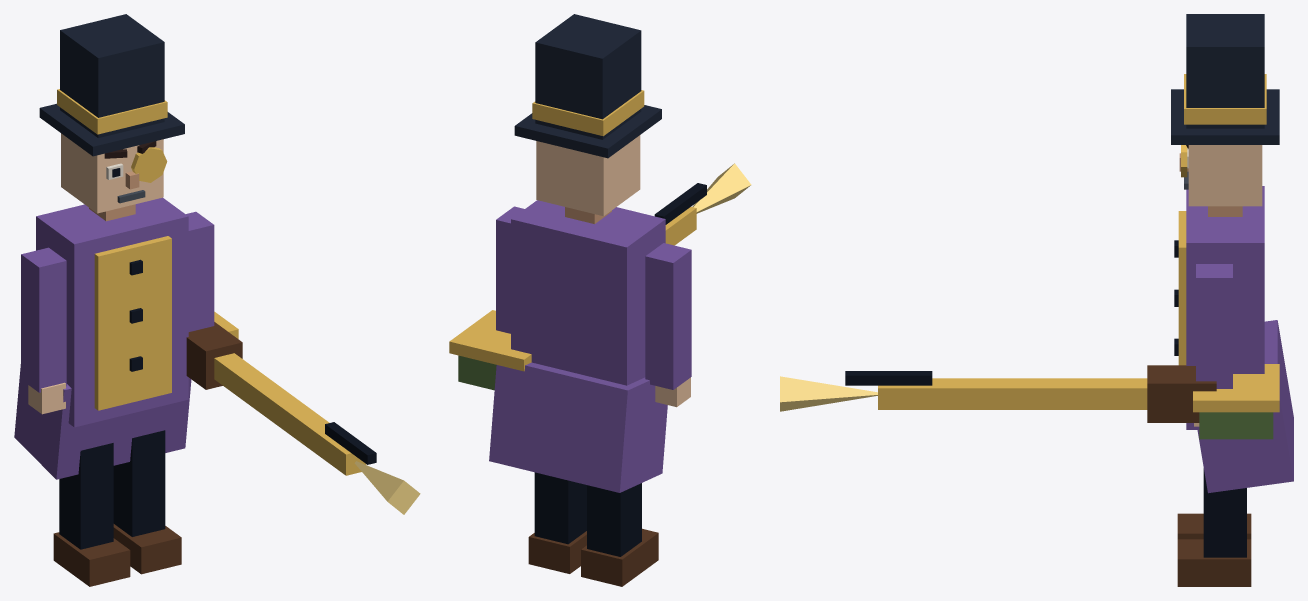
Rendered from enemy_tycoon.glb.
3 renders of one model, left to right at view 1: azimuth 30°, elevation 25°; view 2: azimuth 150°, elevation 25°; view 3: azimuth 270°, elevation 25°, orthographic. The views are drawn at different scales.
Parts seen in each view (by area): view 1: enemy_tycoon; view 2: enemy_tycoon; view 3: enemy_tycoon.
Boxes of the visible parts, box(x1,y1,x2,y2) form: enemy_tycoon: box(14, 14, 420, 586); enemy_tycoon: box(449, 14, 751, 586); enemy_tycoon: box(780, 14, 1293, 586).
Bounding box in the file's own units: 1.07 × 2.71 × 2.37.
Materials: 1 (1 with a texture image).
